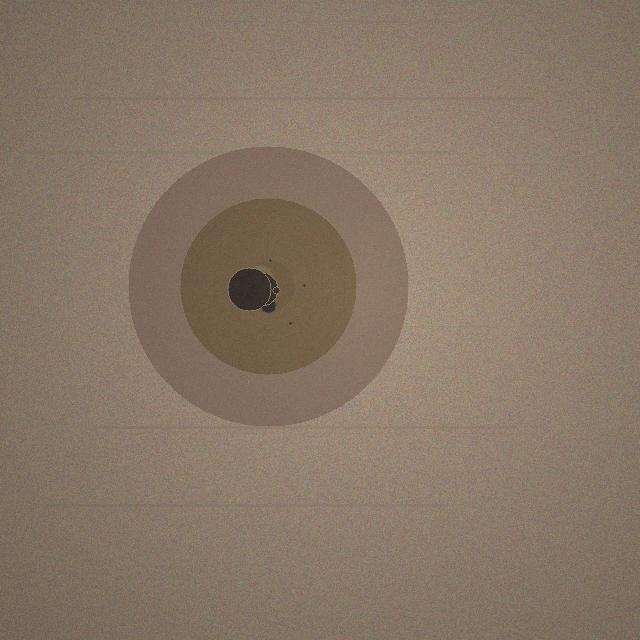shrinkage: (128, 146, 408, 426)
